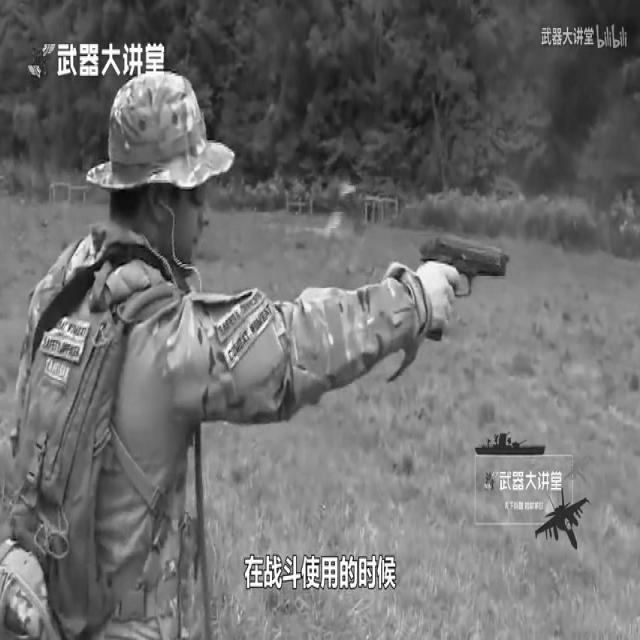Hand-Gun: (410, 114, 542, 413)
